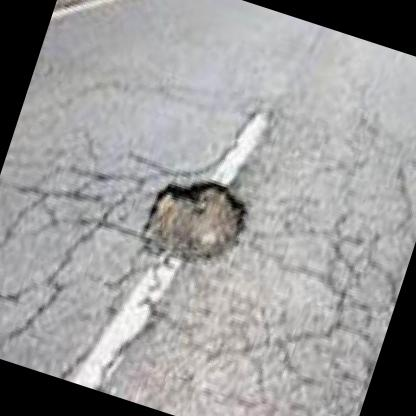pothole: (134, 160, 258, 282)
